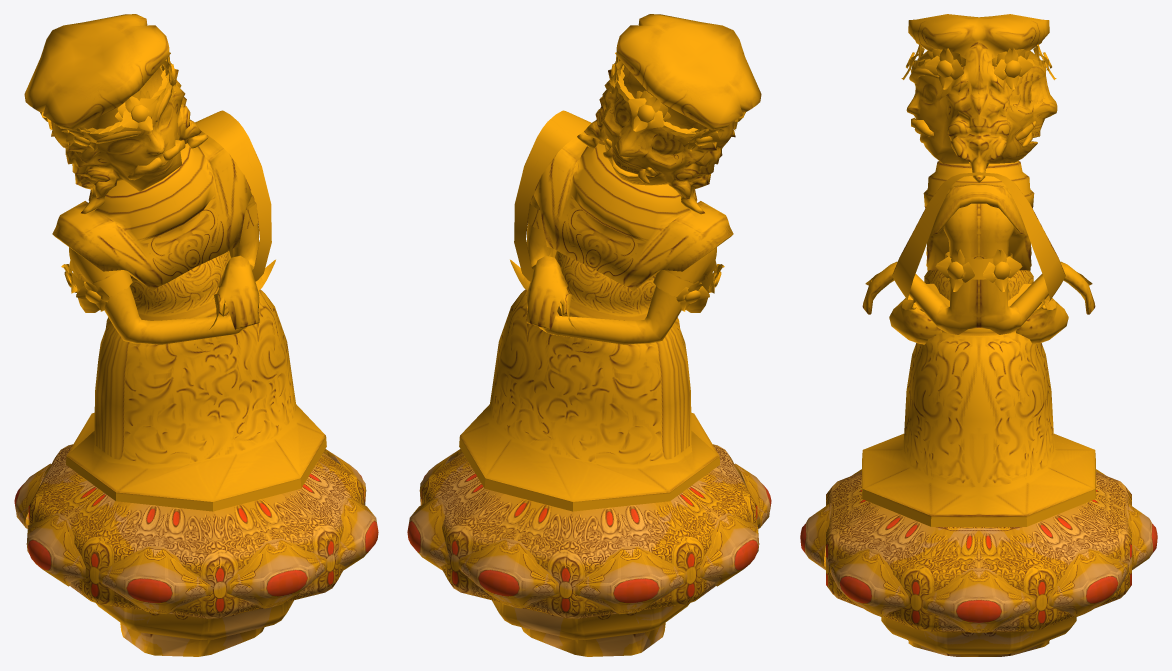
The model's file is Keris_tatarapang1.fbx.
3 views of the same model, side by side, from view 1: azimuth 30°, elevation 25°; view 2: azimuth 150°, elevation 25°; view 3: azimuth 270°, elevation 25° (orthographic). The views are drawn at different scales.
Visible parts, largest first — view 1: blade-lp.001_Material-Bilah_0; view 2: blade-lp.001_Material-Bilah_0; view 3: blade-lp.001_Material-Bilah_0.
Boxes of the visible parts, x1,y1,x2,y2 form: blade-lp.001_Material-Bilah_0: (14,14,378,656); blade-lp.001_Material-Bilah_0: (407,14,771,656); blade-lp.001_Material-Bilah_0: (800,14,1157,656).
Bounding box in the file's own units: 14.63 × 26.94 × 14.63.
2 materials, 2 textured.
